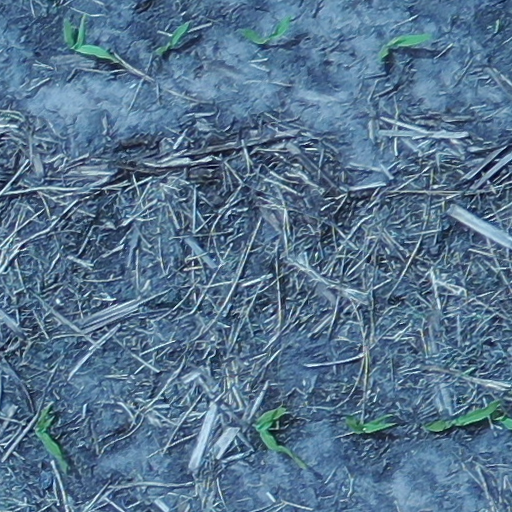planta: (257, 407, 307, 466), (64, 15, 116, 61), (424, 400, 502, 430), (37, 402, 66, 470), (242, 16, 291, 43), (381, 34, 430, 58), (346, 413, 396, 433), (155, 23, 187, 53)
